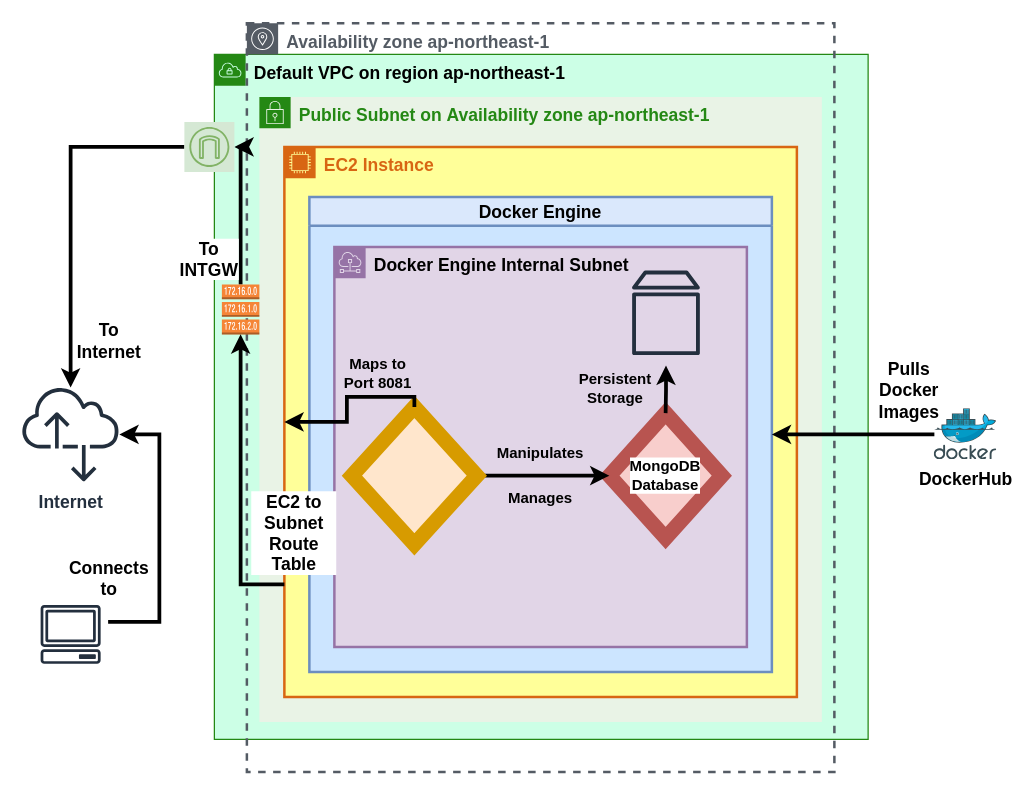
Some shapes in this 1034 by 794 pixel diagram are drawn without their labels. Here are the shapes that lost their labels. From the top down, the centre of each, then its label:
point (208, 146): INTGW
point (665, 312): sharedb Volume
point (414, 475): Mongo-Express "Front End"
point (70, 634): Client
